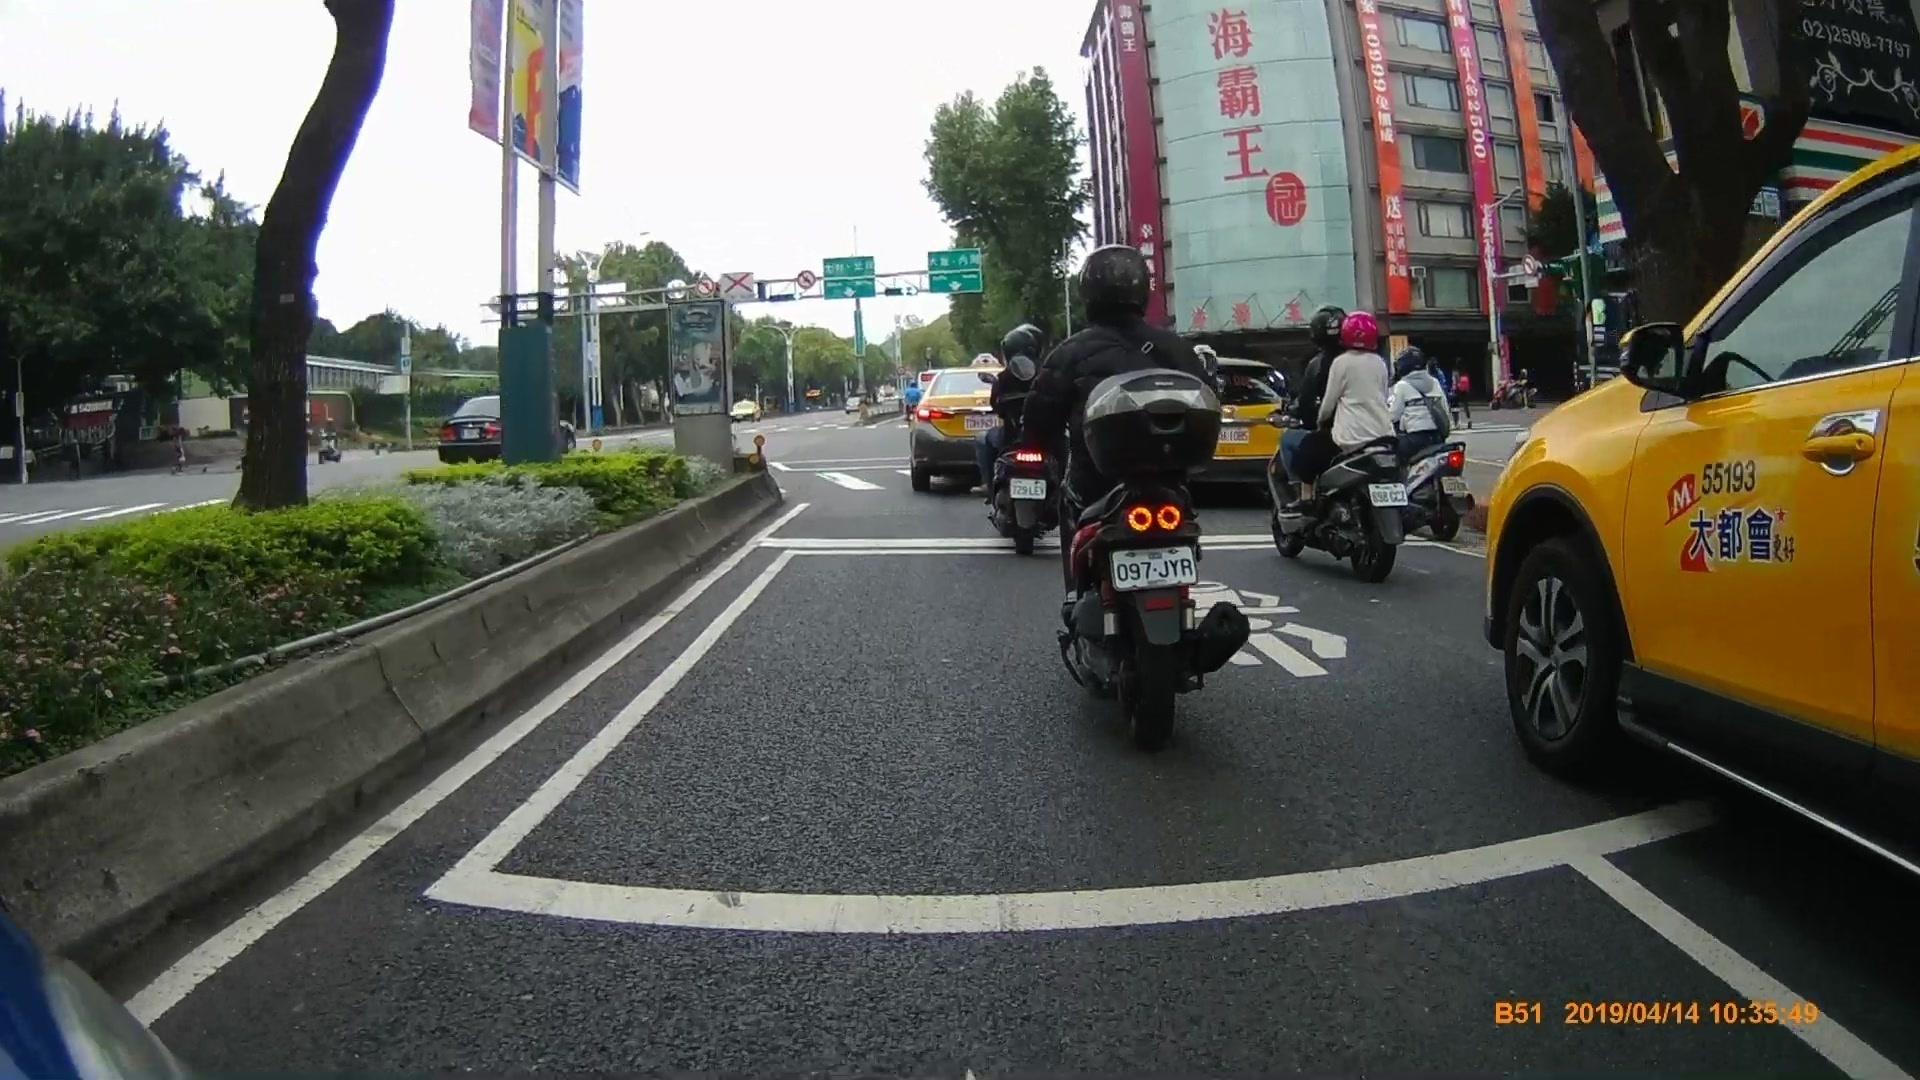License_plate: (1110, 543, 1204, 582), (1367, 482, 1412, 509), (1009, 476, 1048, 499), (962, 414, 1002, 434), (1439, 473, 1471, 495)
